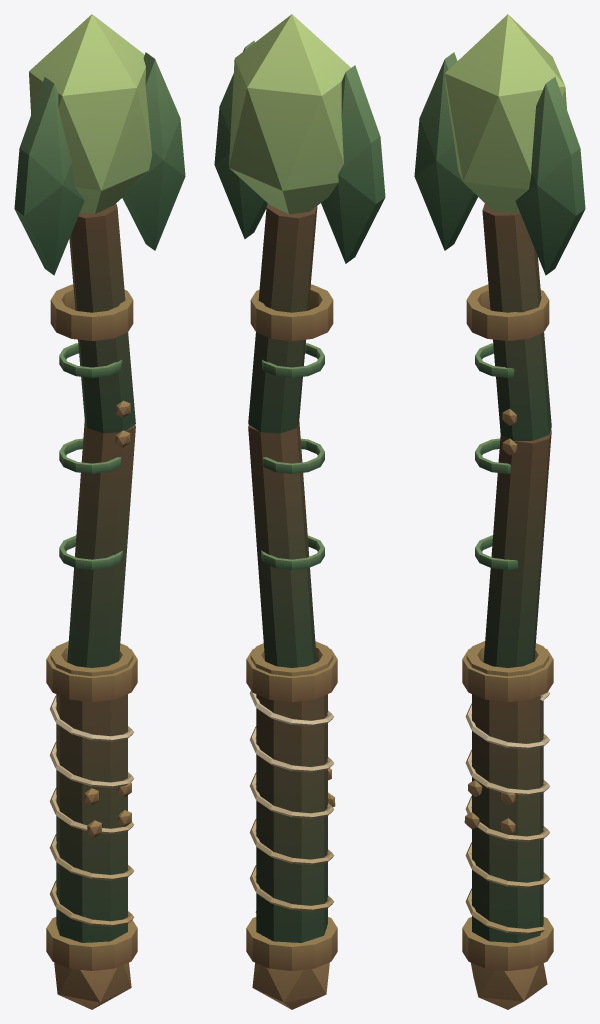
The model's file is varita_semilla_viva.glb.
3 views of the same model, side by side, from view 1: azimuth 30°, elevation 25°; view 2: azimuth 150°, elevation 25°; view 3: azimuth 330°, elevation 25° (orthographic).
Visible parts, largest first — view 1: varita_semilla_viva_finished; view 2: varita_semilla_viva_finished; view 3: varita_semilla_viva_finished.
Boxes of the visible parts, bbox=[...] form: varita_semilla_viva_finished: bbox=[14, 14, 185, 1009]; varita_semilla_viva_finished: bbox=[214, 14, 385, 1009]; varita_semilla_viva_finished: bbox=[414, 14, 585, 1009].
Size of the model in its own units: 0.176 by 1.04 by 0.1021.
Materials: 2 (2 with a texture image).
